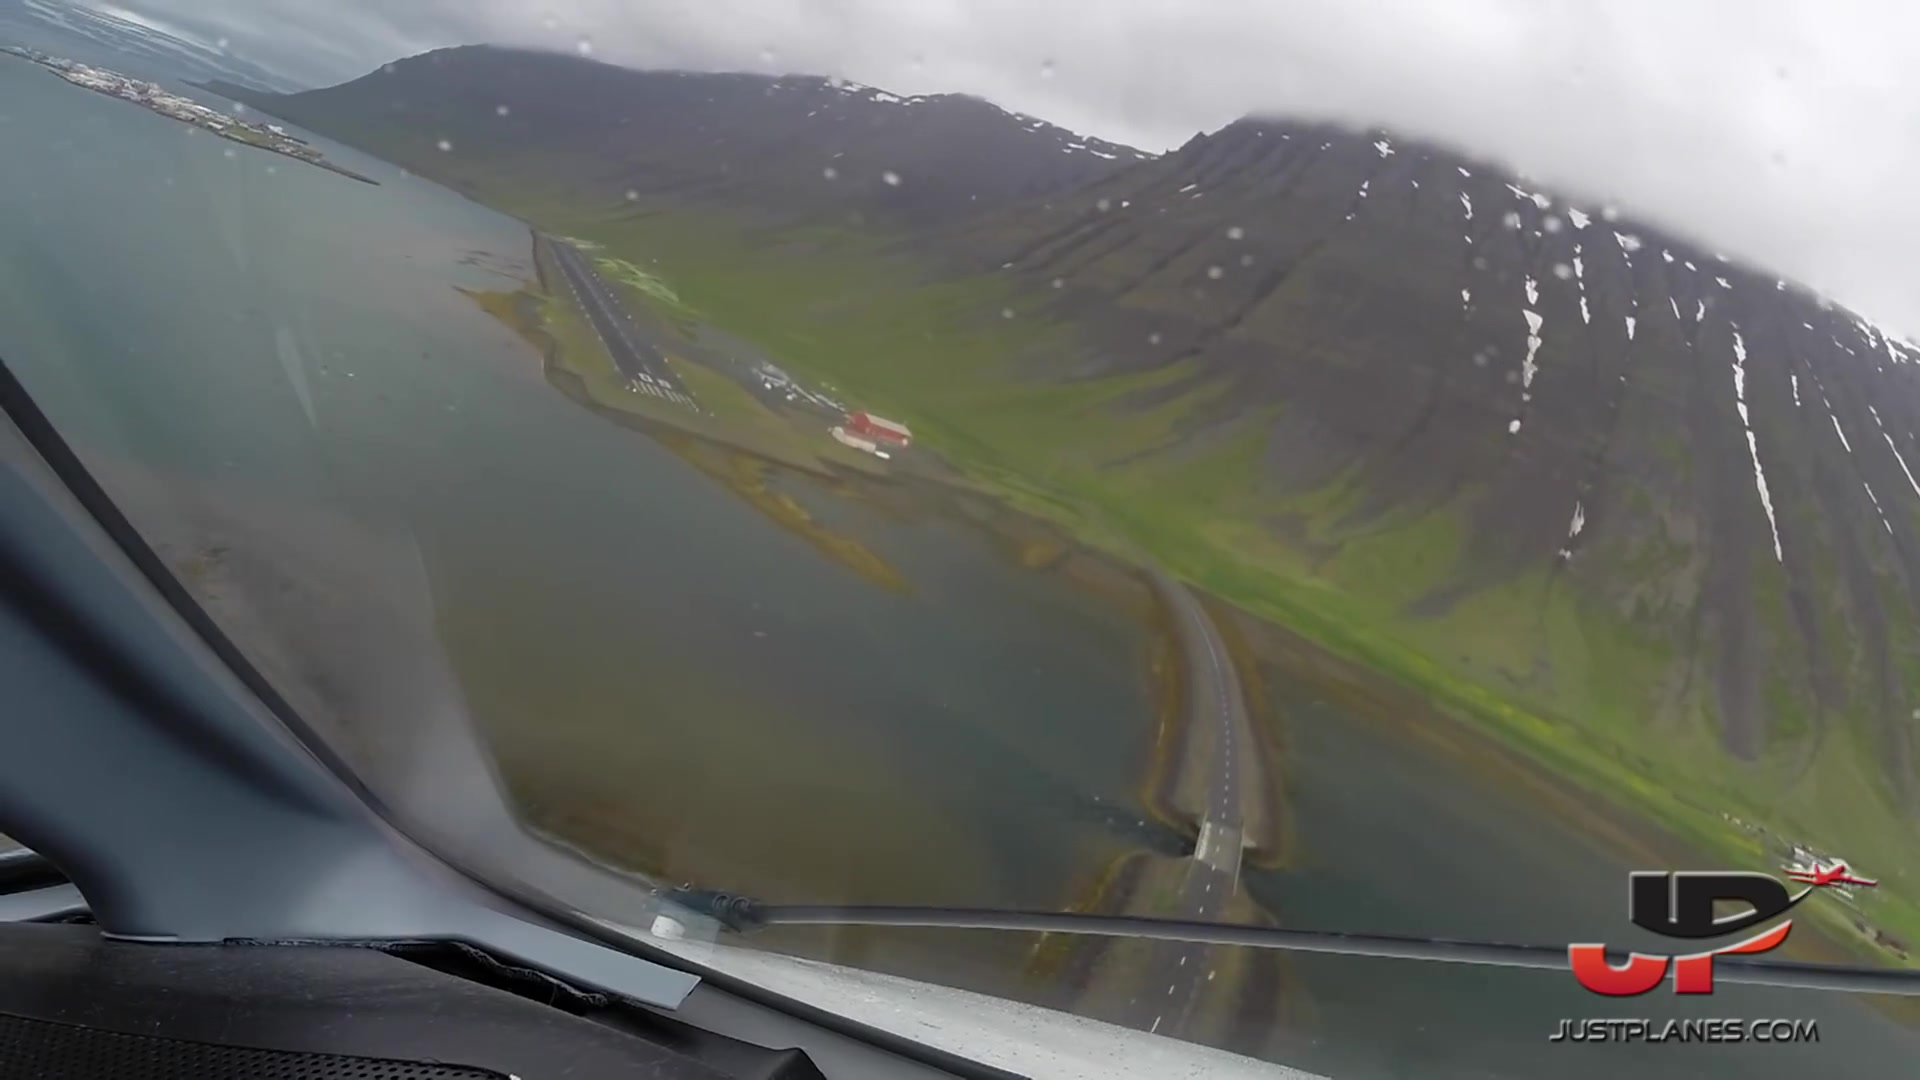runway: (549, 243, 713, 415)
